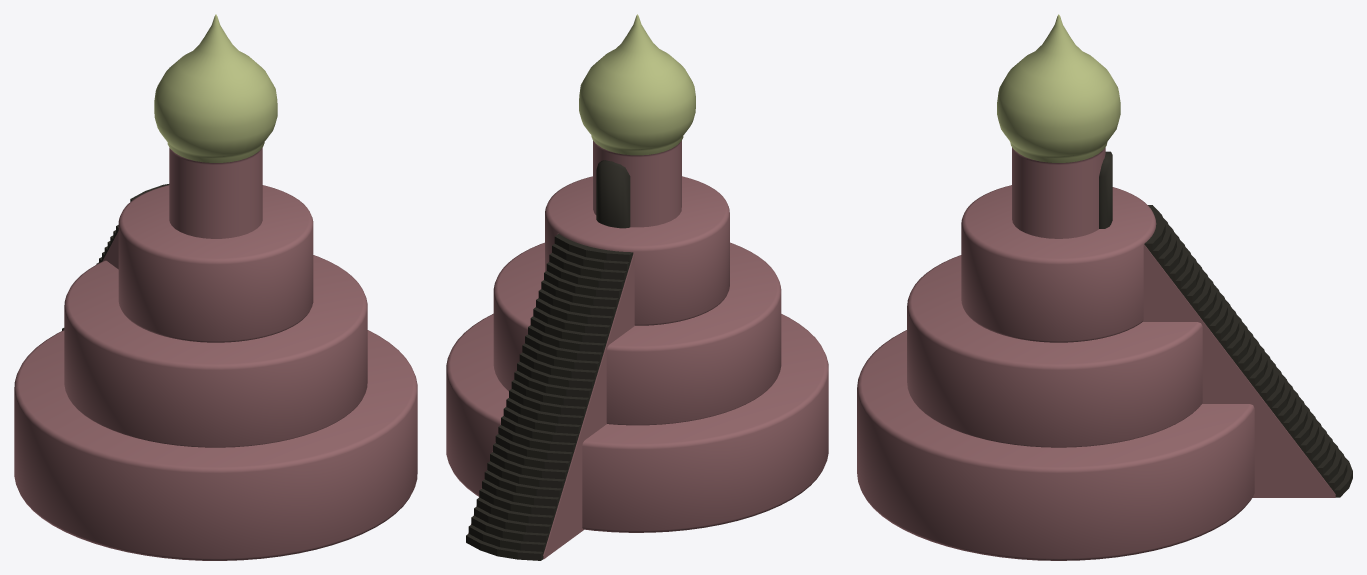
Rendered from onion_cake_temple.fbx.
3 views of the same model, side by side, from view 1: azimuth 30°, elevation 25°; view 2: azimuth 150°, elevation 25°; view 3: azimuth 270°, elevation 25° (orthographic). The views are drawn at different scales.
Visible parts, largest first — view 1: Cylinder.003, Cylinder.002, Cylinder.001, Cylinder; view 2: Cylinder.003, Cube.004, Cylinder.002, Cylinder, Cylinder.001, Cube.003, Cube.007; view 3: Cylinder.003, Cylinder.002, Cylinder.001, Cylinder, Cube.004, Cube.003, Cube.007.
Boxes of the visible parts, x1,y1,x2,y2 form: Cylinder.003: (14,330,417,560); Cylinder.002: (64,255,367,447); Cylinder.001: (118,185,313,342); Cylinder: (154,14,277,238); Cylinder.003: (446,313,828,532); Cube.004: (466,233,633,560); Cylinder.002: (493,242,781,425); Cylinder: (579,14,695,227); Cylinder.001: (545,176,729,325); Cube.003: (468,233,634,559); Cube.007: (596,160,630,228); Cylinder.003: (857,330,1254,560); Cylinder.002: (907,255,1202,447); Cylinder.001: (961,185,1156,342); Cylinder: (997,14,1120,238); Cube.004: (1144,205,1352,497); Cube.003: (1143,244,1335,497); Cube.007: (1099,151,1112,228).
Bounding box in the file's own units: 2947 × 3741 × 3622.
